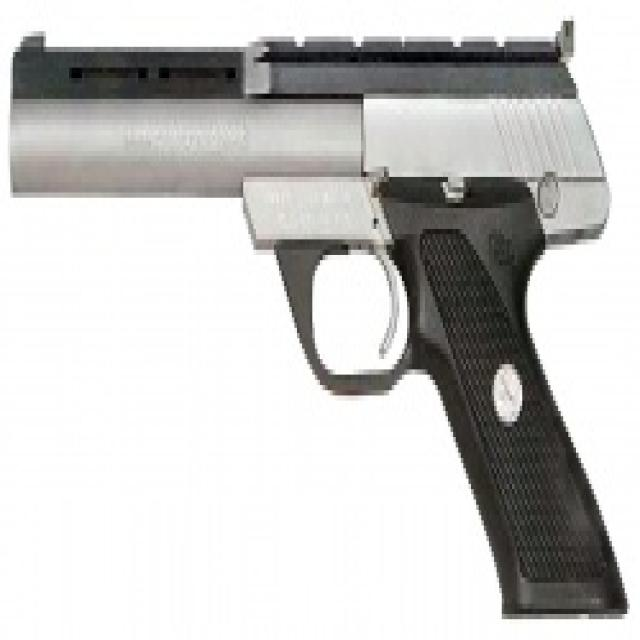pistol: (8, 9, 635, 628)
